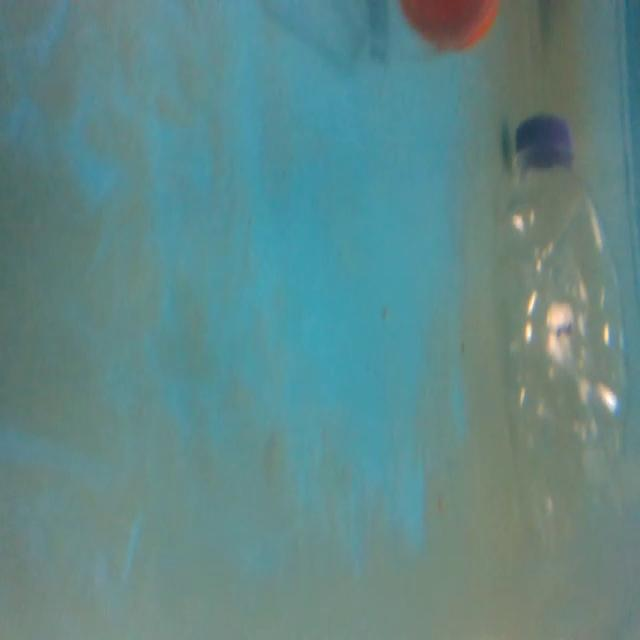plastic bottle: (493, 111, 640, 549)
